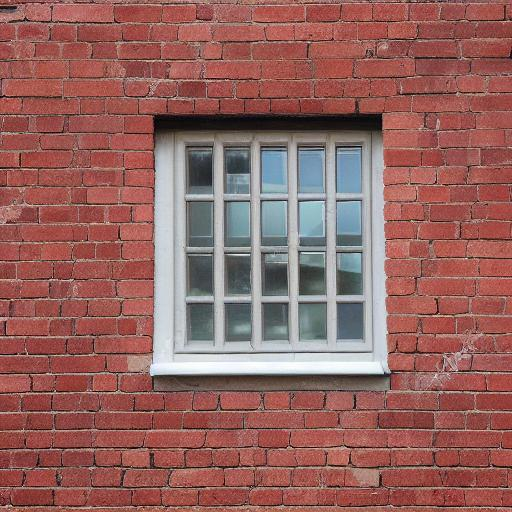Window: (149, 113, 394, 382)
